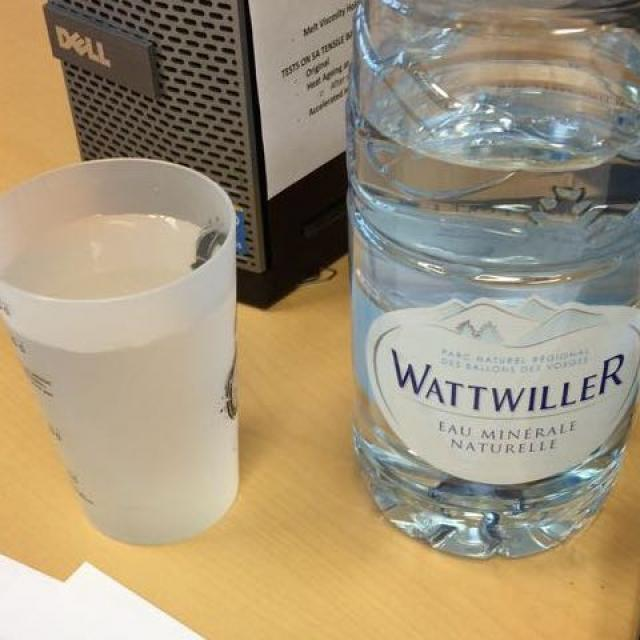water: (14, 210, 211, 299)
